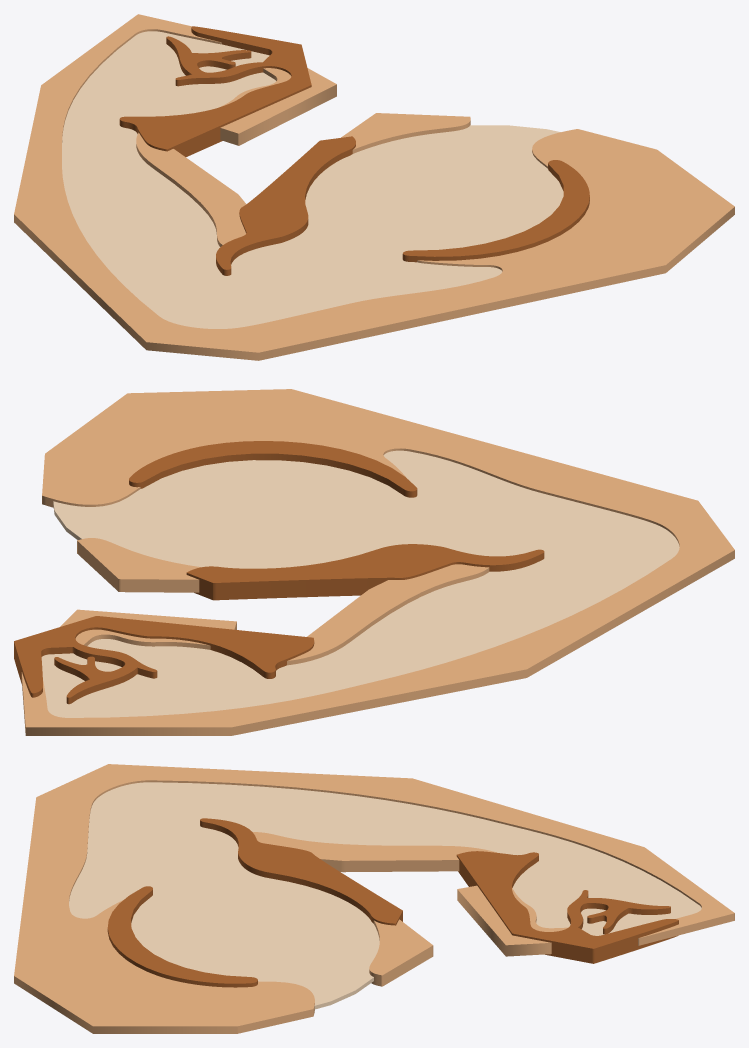
Rendered from emoji_u1f4aa_1f3fb.glb.
3 views of the same model, one above another, from view 1: azimuth 30°, elevation 25°; view 2: azimuth 150°, elevation 25°; view 3: azimuth 270°, elevation 25° (orthographic). The views are drawn at different scales.
Visible parts, largest first — view 1: emoji_u1f4aa_1f3fb; view 2: emoji_u1f4aa_1f3fb; view 3: emoji_u1f4aa_1f3fb.
Part boxes in pixels (bbox=[...]): emoji_u1f4aa_1f3fb: bbox=[14, 14, 734, 360]; emoji_u1f4aa_1f3fb: bbox=[14, 389, 734, 735]; emoji_u1f4aa_1f3fb: bbox=[14, 764, 734, 1033].
Size of the model in its own units: 0.0299 by 0.0008 by 0.0347.
